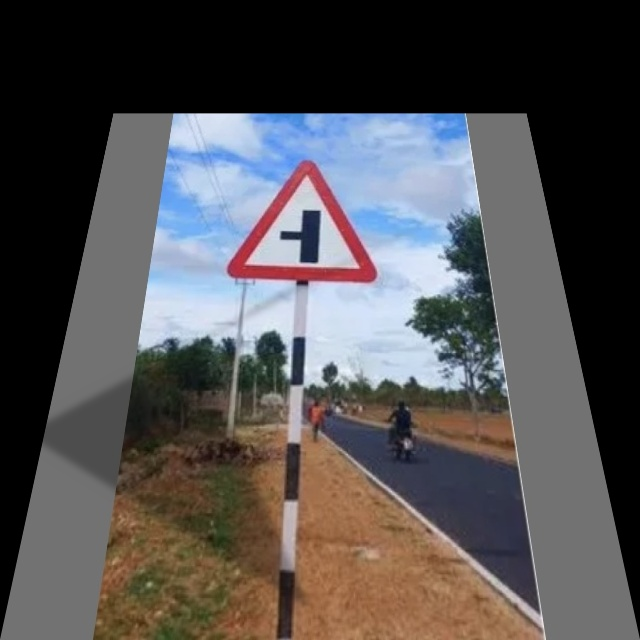Side_Road_Left: (228, 161, 379, 288)
